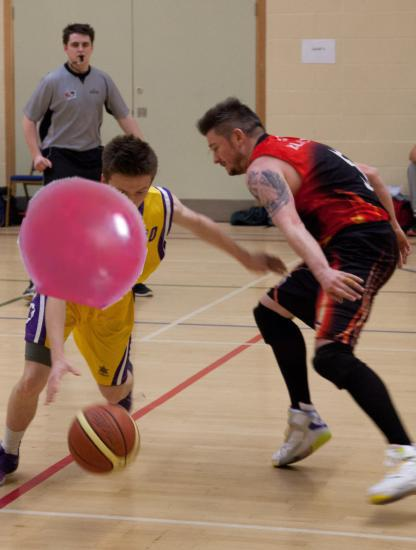Redcurrant: (19, 177, 149, 307)
